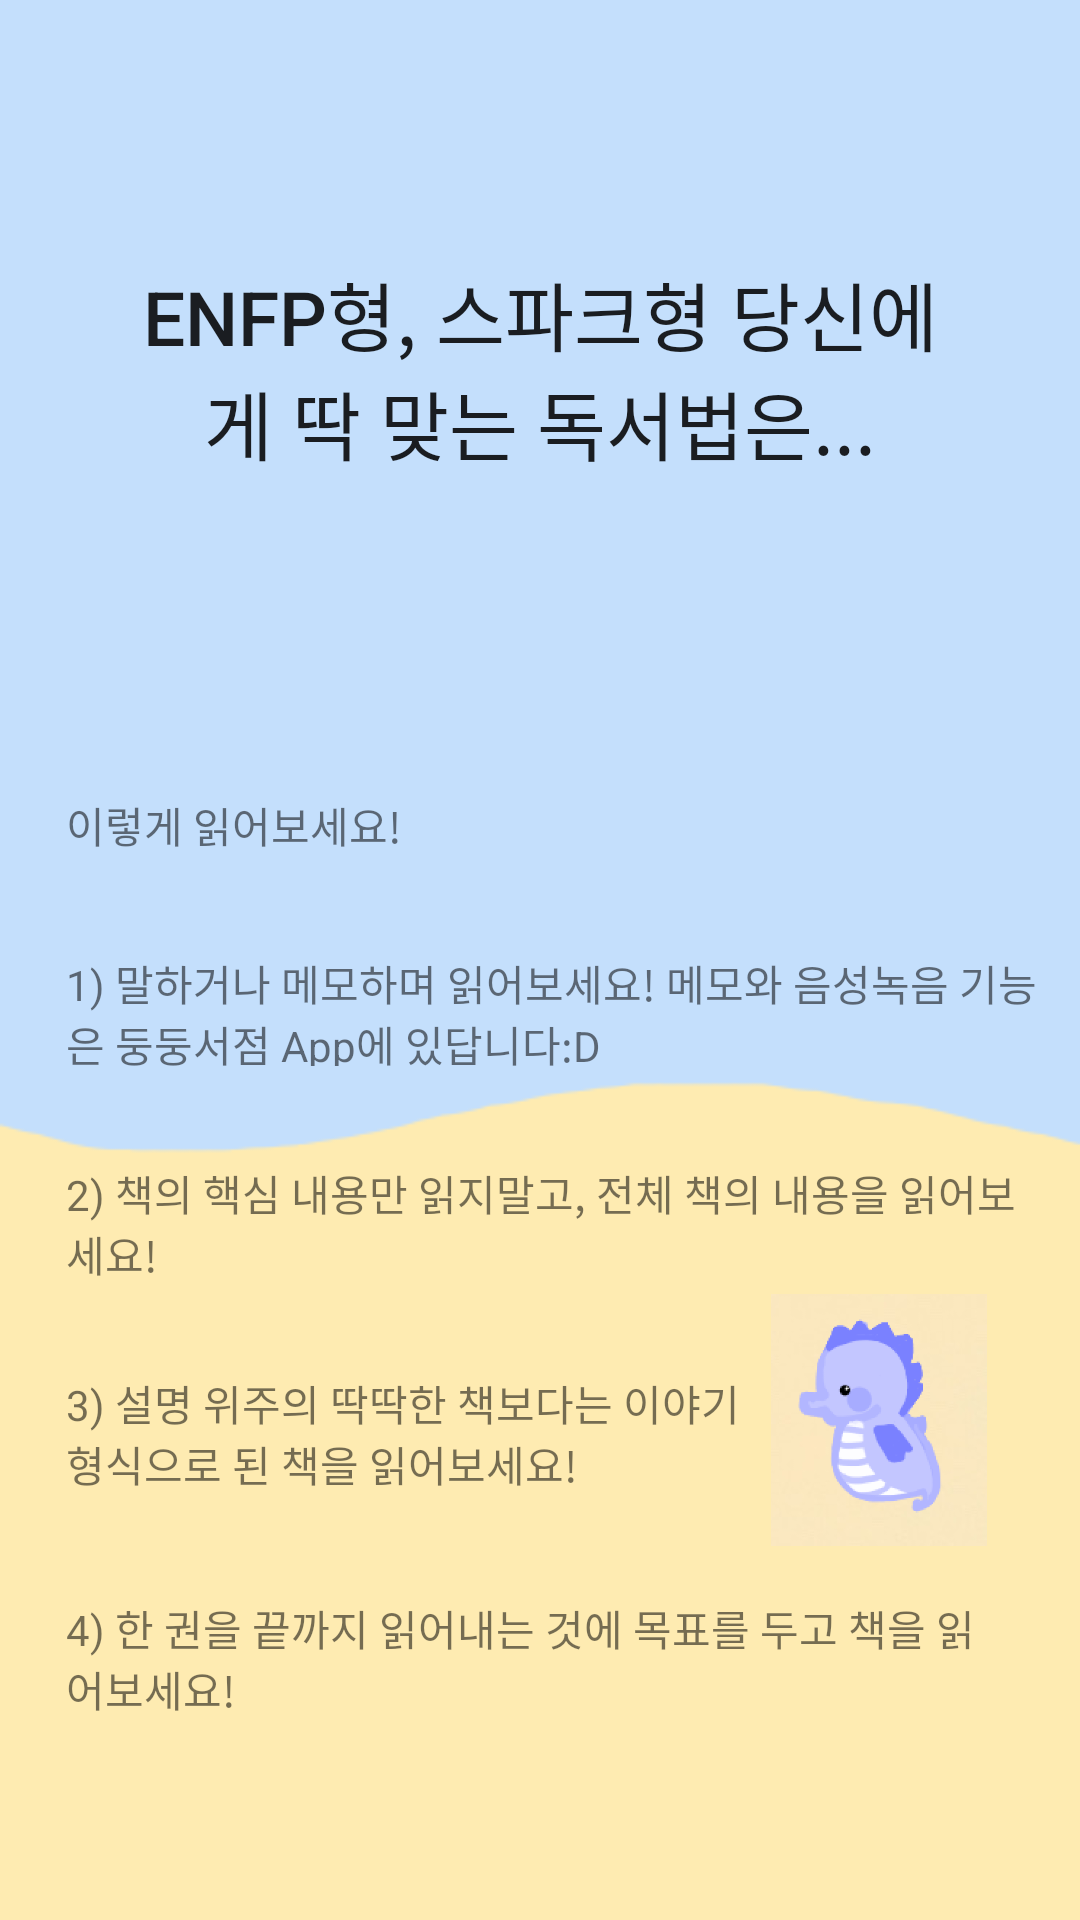

Where icons sit on this 1080 × 1920 app screen, as Rect(x1, y1, x2, y2):
seahorse: Rect(798, 1319, 941, 1513)
